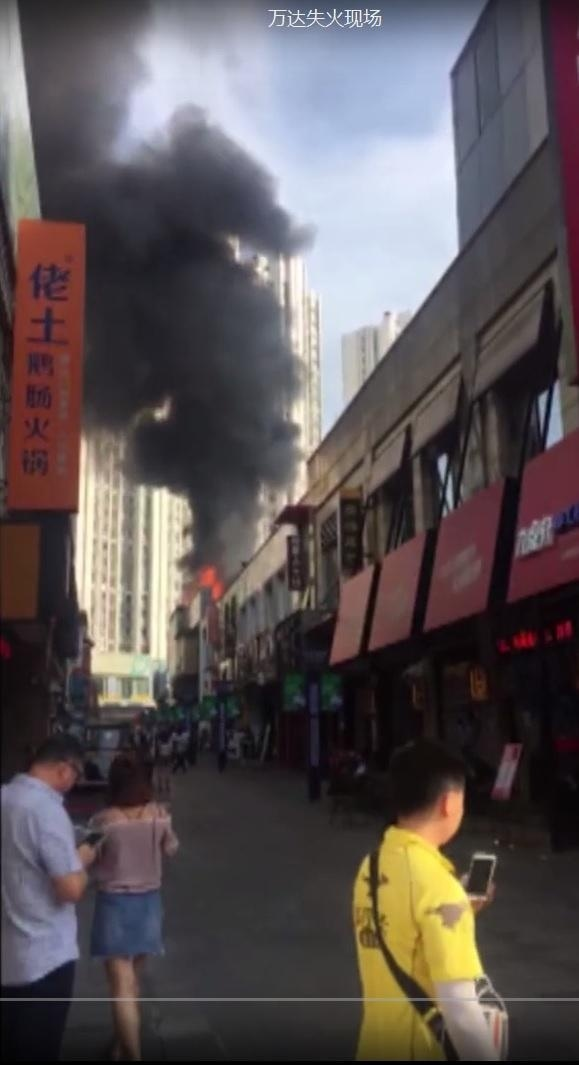fire: (193, 564, 228, 602)
